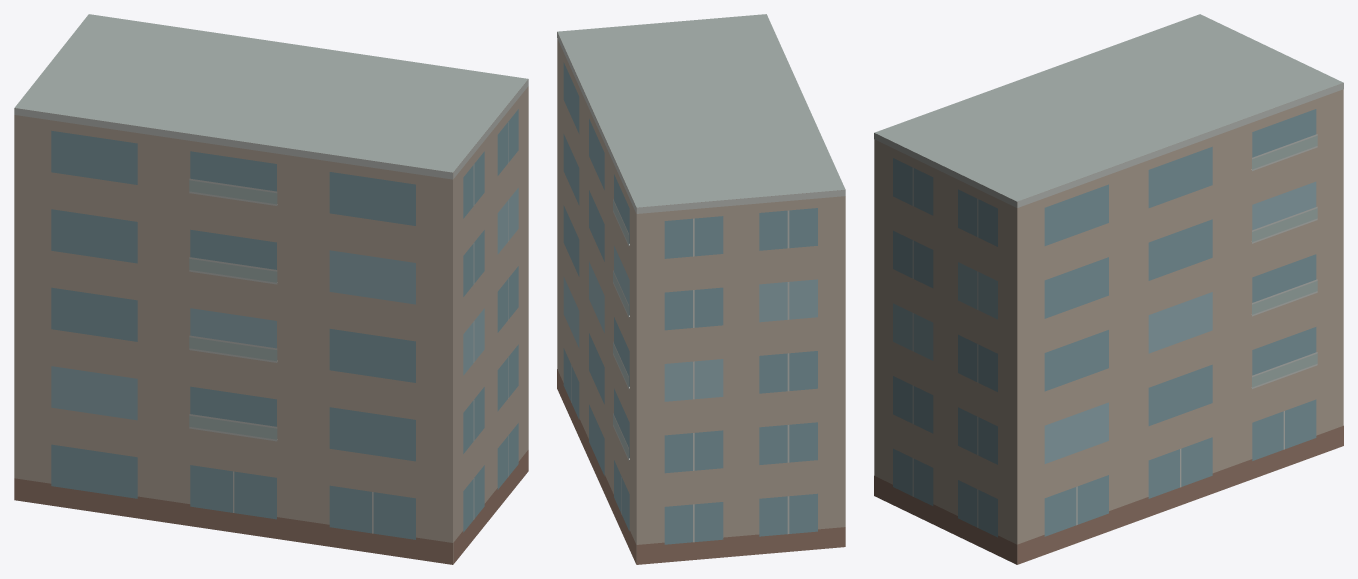
The model's file is survey-upis-32980818.glb.
3 views of the same model, side by side, from view 1: azimuth 30°, elevation 25°; view 2: azimuth 150°, elevation 25°; view 3: azimuth 270°, elevation 25° (orthographic). The views are drawn at different scales.
Visible parts, largest first — view 1: survey-upis-32980818.tmp; view 2: survey-upis-32980818.tmp; view 3: survey-upis-32980818.tmp.
Boxes of the visible parts, bbox=[...] form: survey-upis-32980818.tmp: bbox=[14, 14, 528, 564]; survey-upis-32980818.tmp: bbox=[557, 14, 845, 564]; survey-upis-32980818.tmp: bbox=[874, 14, 1343, 564].
Size of the model in its own units: 15.19 by 13.7 by 16.06.
